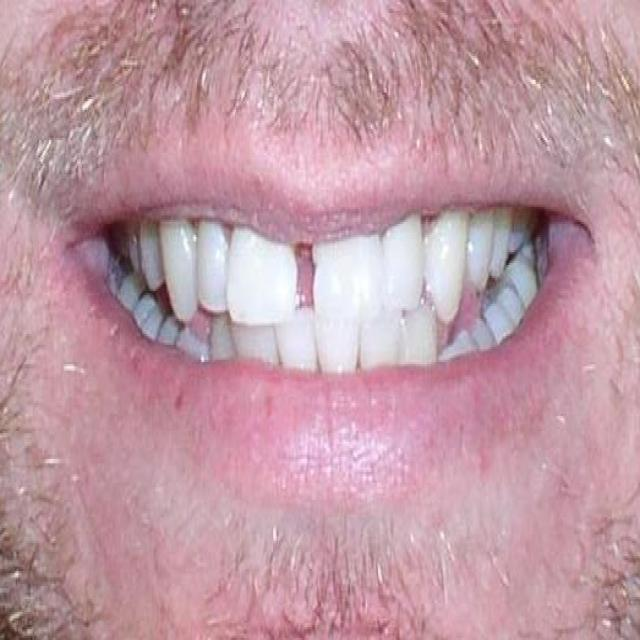tooth: (317, 258, 376, 314), (376, 226, 423, 295), (231, 233, 273, 308), (428, 215, 459, 312), (197, 213, 222, 293), (140, 226, 167, 298), (274, 308, 310, 362), (400, 308, 432, 360), (471, 196, 490, 282), (239, 317, 275, 362), (489, 194, 506, 280), (328, 319, 356, 362), (170, 235, 186, 310), (370, 308, 394, 351), (507, 194, 528, 239)
